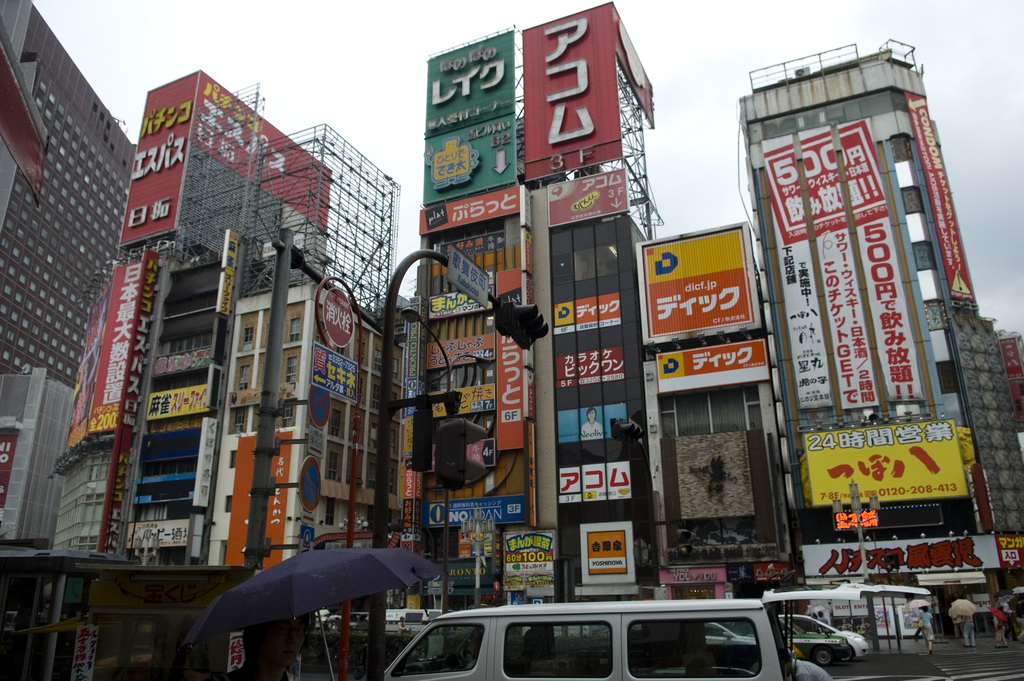Car: (769, 613, 848, 656), (703, 620, 755, 645)
